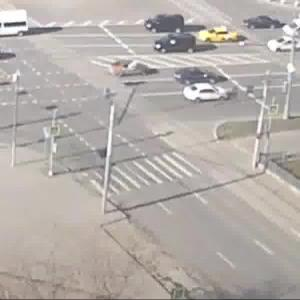car: (112, 58, 162, 83), (200, 27, 251, 47), (182, 82, 230, 102), (176, 68, 227, 86), (1, 7, 31, 37), (159, 35, 197, 58), (147, 13, 185, 35), (269, 38, 300, 56), (245, 17, 284, 29), (286, 19, 300, 40)
